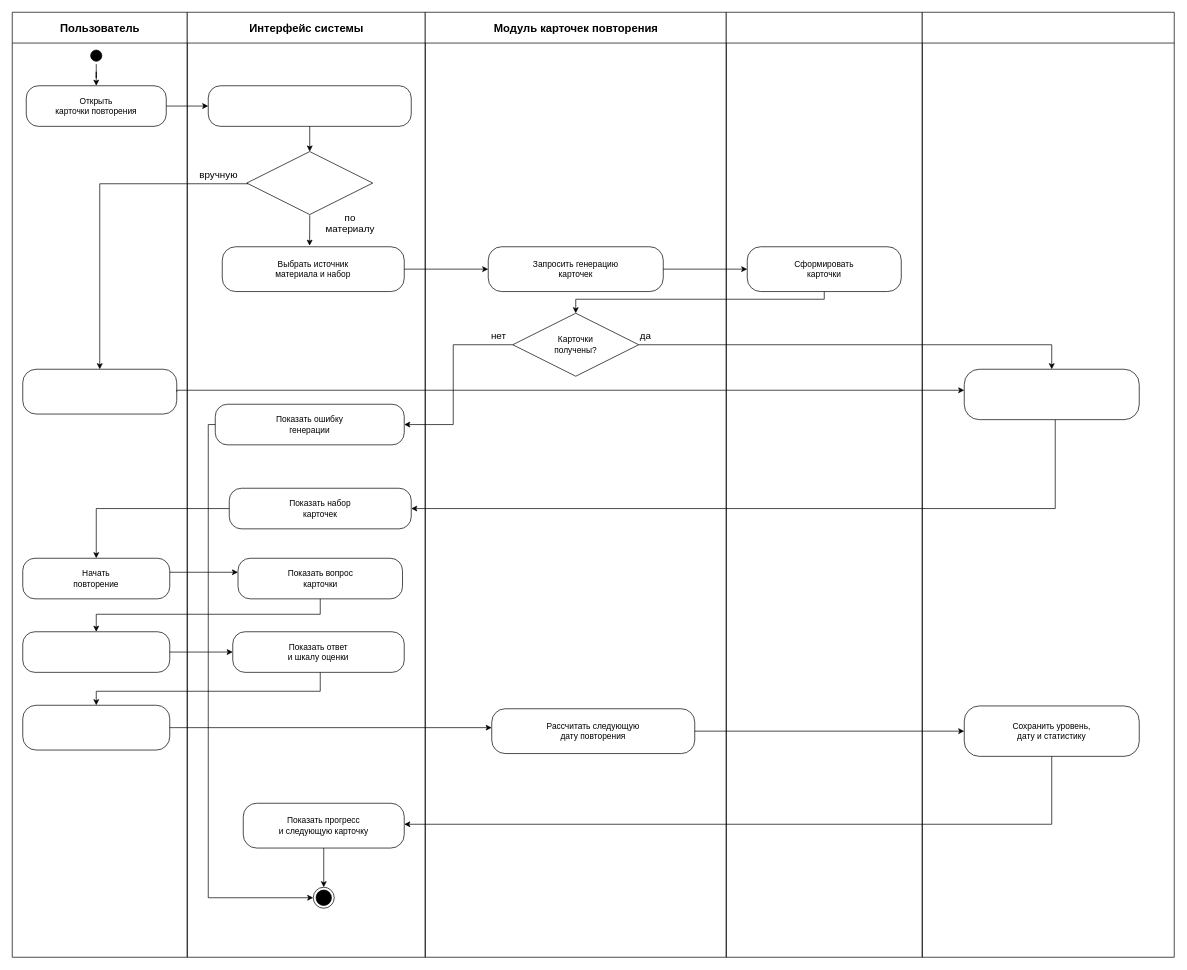
Image size: 1187x970. Some labels were removed from this diagram. The box of each missing label's shape, as (x1, y1, x2, y2) in pixels:
AI-сервис: (726, 12, 922, 957)
Ввести вопрос, ответ и набор: (22, 369, 177, 414)
Выбрать уровень: не знаю ... отлично: (22, 705, 170, 750)
Локальное хранилище: (922, 12, 1174, 957)
Показать наборы и действия модуля: (208, 85, 411, 126)
Показать ответ: (22, 631, 170, 672)
Сохранить карточки, набор и источник: (964, 369, 1139, 420)
Способ создания?: (246, 151, 373, 215)
